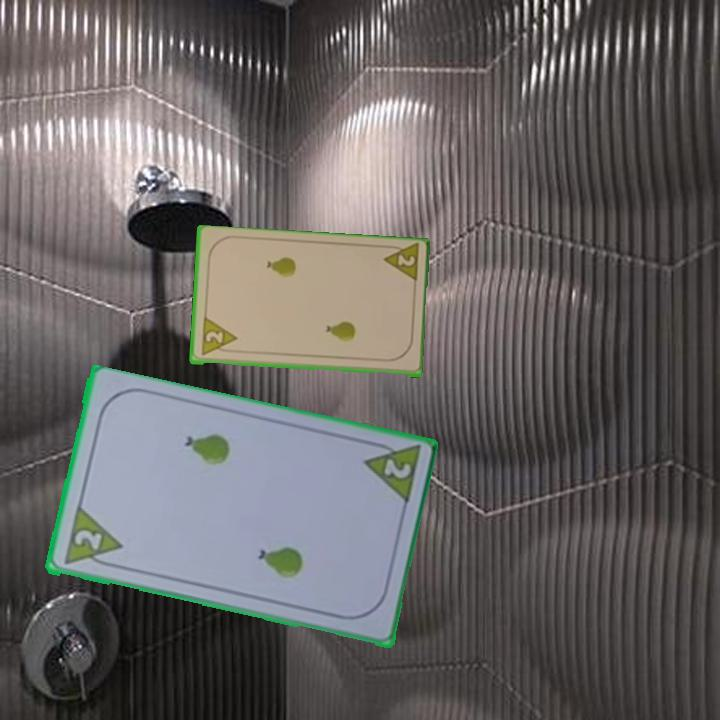2p: (358, 437, 424, 509), (379, 242, 422, 287), (197, 316, 239, 359), (70, 526, 105, 553)
